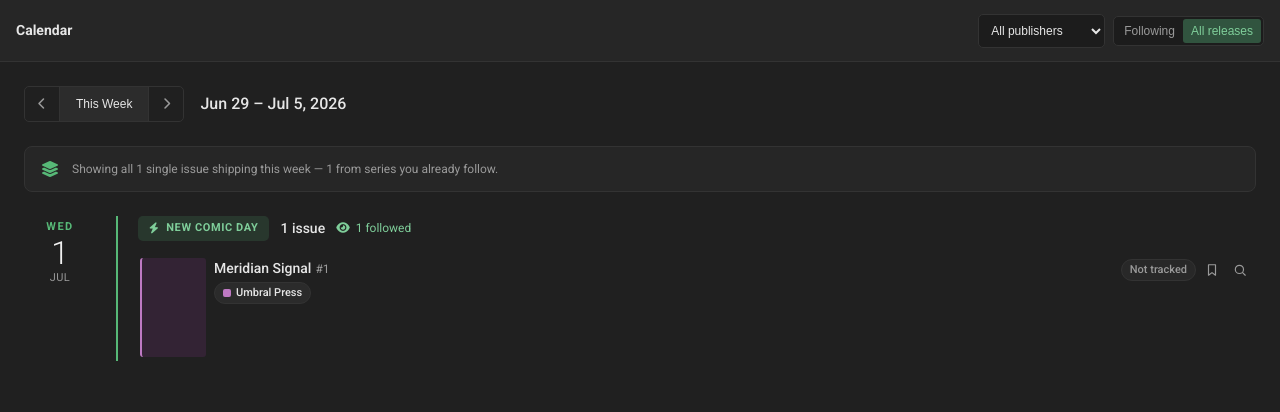
FRG-UI-048: in-flight feedback for the monitor toggle › FRG-UI-048 — a toggle the projection does not honour is explained rather than silently reverted
Check: the list item with test id "calendar-card-1" is shown, box [138,254,1256,361]
Click the button named "Monitor Meridian Signal" at (1212, 270), box [1200,258,1224,282]
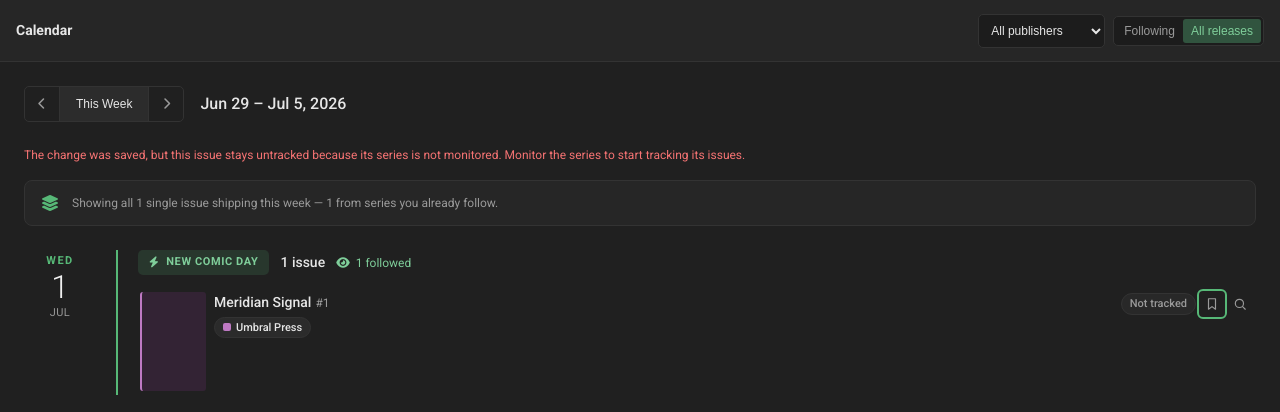
Check: the message with test id "calendar-action-error" shows "series is not monitored", box [24,148,745,162]
